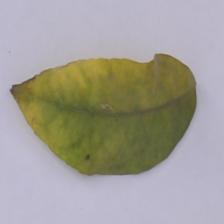greening: (8, 50, 207, 172)
